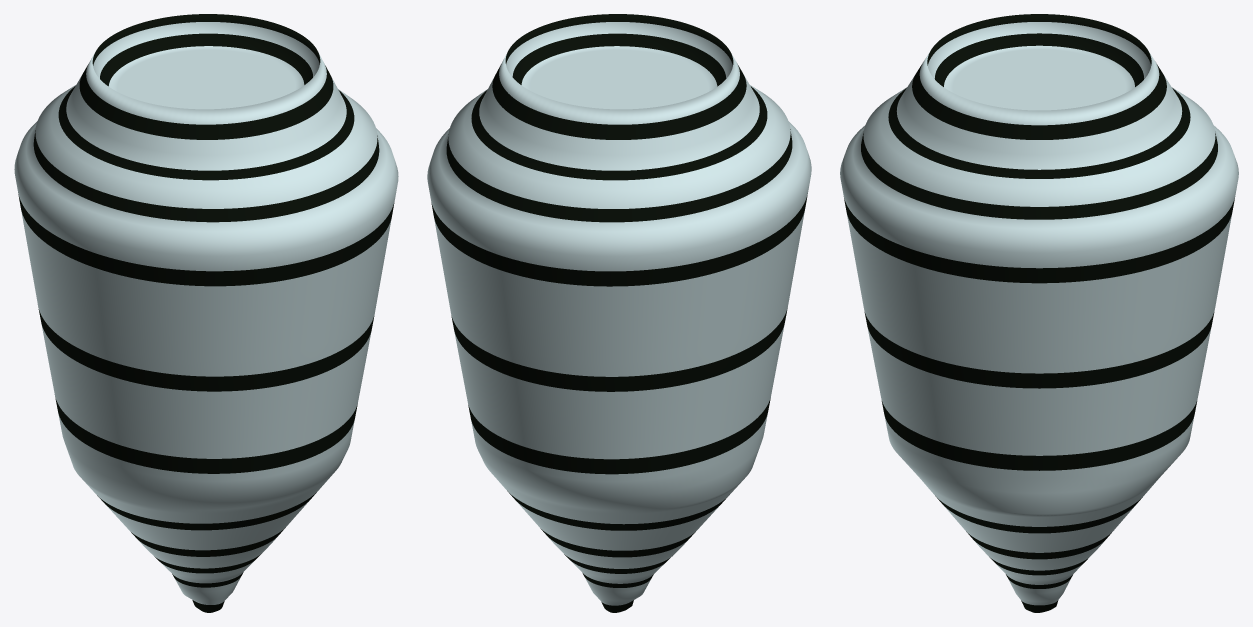
The model's file is body.gltf.
3 views of the same model, side by side, from view 1: azimuth 30°, elevation 25°; view 2: azimuth 150°, elevation 25°; view 3: azimuth 270°, elevation 25° (orthographic).
Parts seen in each view (by area): view 1: Cylinder; view 2: Cylinder; view 3: Cylinder.
Boxes of the visible parts, x1,y1,x2,y2 form: Cylinder: (14, 14, 398, 612); Cylinder: (427, 14, 811, 612); Cylinder: (840, 14, 1238, 612).
Size of the model in its own units: 1.27 by 2.03 by 1.34.
